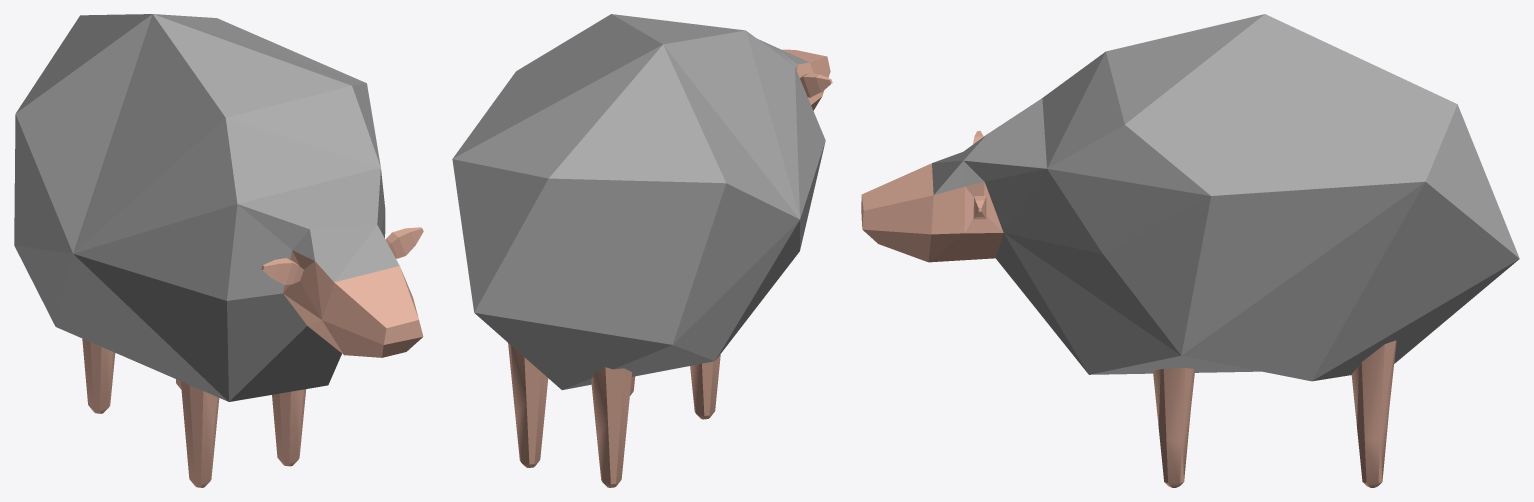
The model's file is OVEJA.FBX.
The picture shows the model from 3 angles, left to right: view 1: azimuth 30°, elevation 25°; view 2: azimuth 150°, elevation 25°; view 3: azimuth 270°, elevation 25°; orthographic projection. The views are drawn at different scales.
Parts seen in each view (by area): view 1: OVEJA, PATA DELANTERA DER001, PATA DELANTERA IZQ001, PATA TRASERA DER001; view 2: OVEJA, PATA TRASERA DER001, PATA TRASERA IZQ001, PATA DELANTERA DER001; view 3: OVEJA, PATA TRASERA IZQ001, PATA DELANTERA IZQ001.
Part boxes in pixels (x1,y1,x2,y2): OVEJA: [14, 14, 423, 401]; PATA DELANTERA DER001: [180, 381, 219, 487]; PATA DELANTERA IZQ001: [272, 389, 306, 466]; PATA TRASERA DER001: [82, 338, 115, 413]; OVEJA: [452, 14, 832, 390]; PATA TRASERA DER001: [591, 367, 632, 487]; PATA TRASERA IZQ001: [508, 343, 548, 467]; PATA DELANTERA DER001: [690, 354, 720, 419]; OVEJA: [861, 14, 1519, 381]; PATA TRASERA IZQ001: [1351, 340, 1396, 487]; PATA DELANTERA IZQ001: [1153, 368, 1194, 487].
Size of the model in its own units: 18.59 by 25.64 by 35.68.
